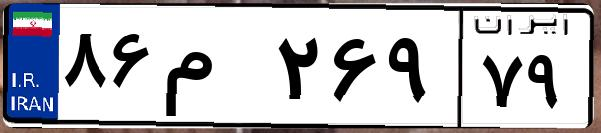2: (270, 28, 330, 110)
6: (330, 28, 385, 110), (110, 28, 158, 98)
7: (475, 38, 525, 113)
8: (57, 26, 110, 100)
9: (385, 28, 445, 110), (525, 38, 570, 115)
م: (158, 20, 270, 120)
